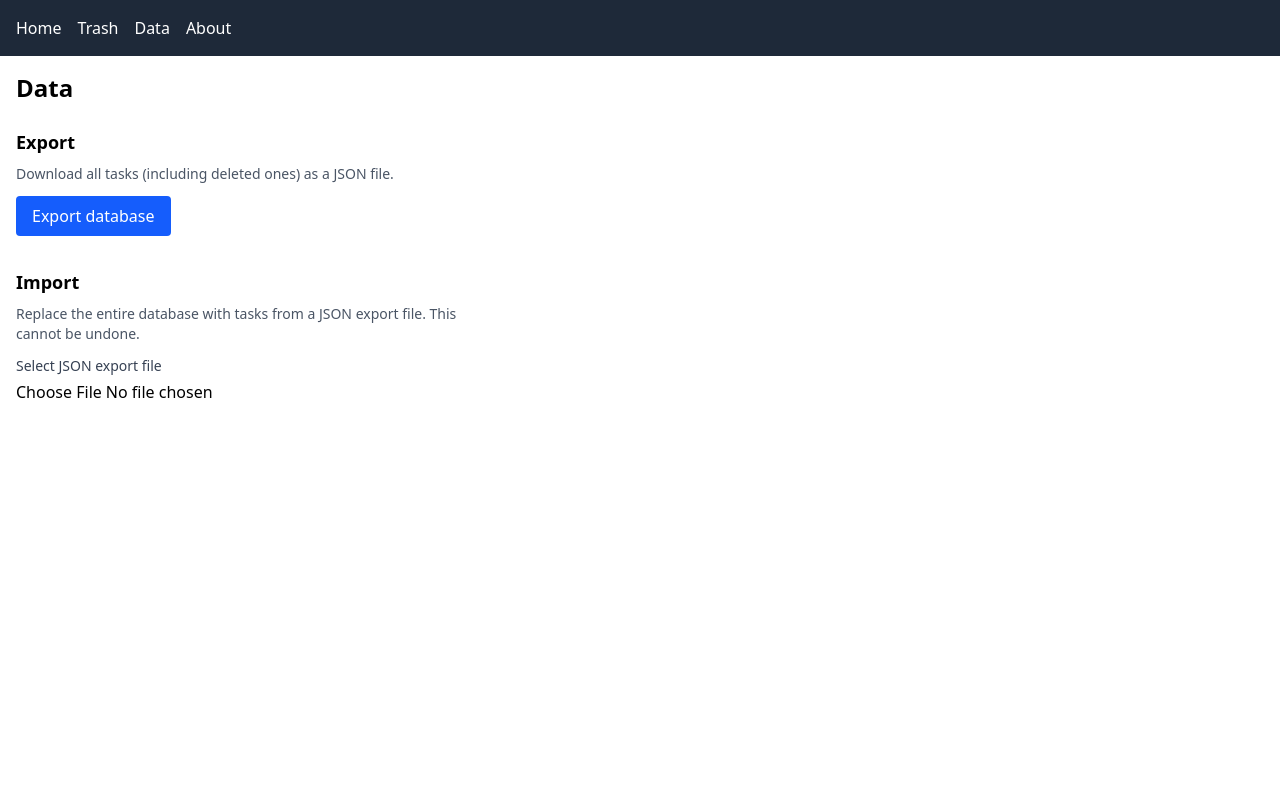
Test: renders the ER diagram on the About page
The width and height of the screenshot is (1280, 799).
Click the link "About".
click(209, 28)  # box [186,17,231,39]
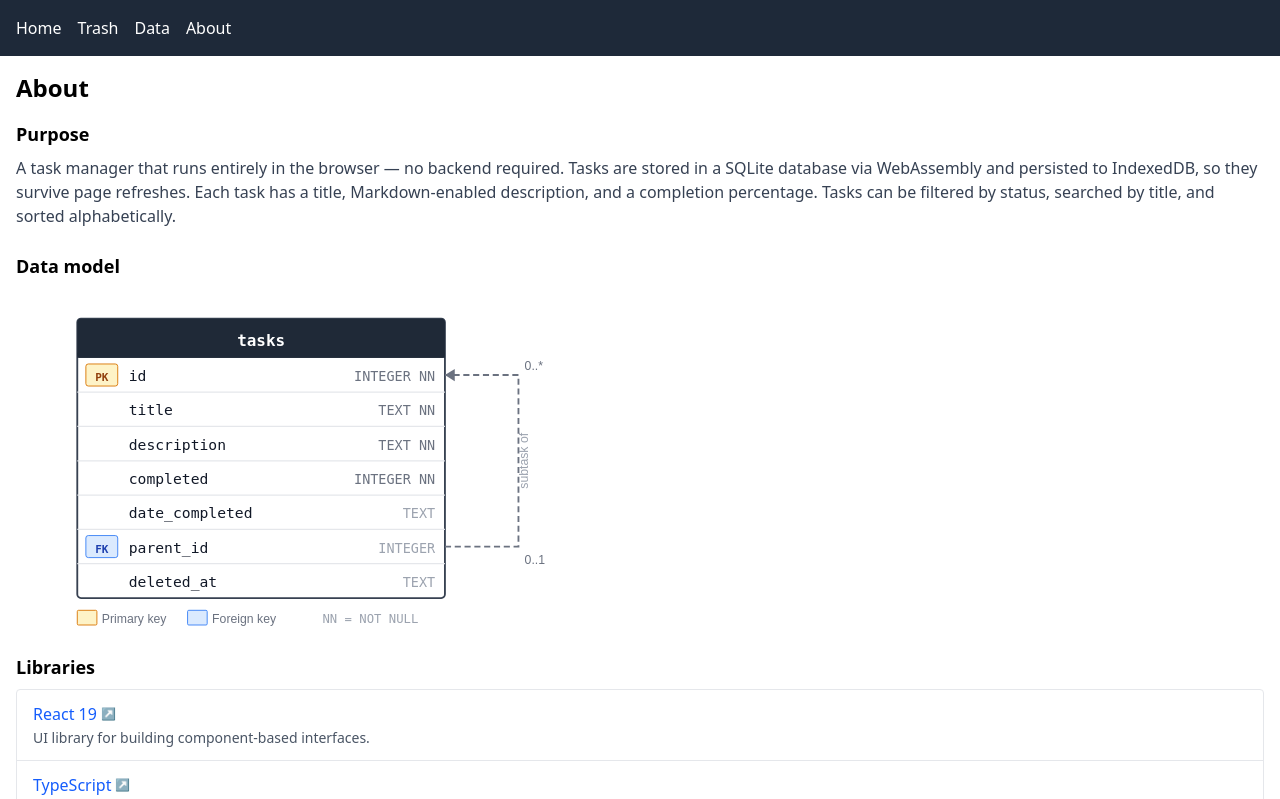
Expected: the heading "About" is shown, [16,71,89,104]
Expected: the heading "Data model" is shown, [16,254,120,278]
Expected: the picture named "Entity–relationship diagram for the tasks table" is shown, [16,288,592,629]
